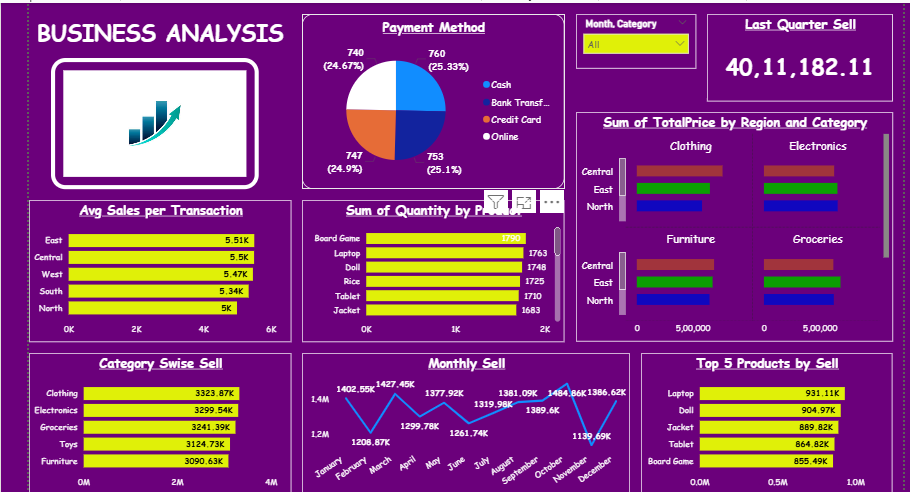

The dashboard page shown, as its layout file describes it:
{"tool":"powerbi","page":{"name":"Page 1","canvas":[1280,720],"ordinal":0},"visuals":[{"type":"barChart","title":"Category Swise Sell","fields":{"Category":["Business_Analysis_Dataset_Updated.Category"],"Y":["Sum(Business_Analysis_Dataset_Updated.TotalPrice)"]},"box":[0,512,384,208],"z":0},{"type":"lineChart","title":"Monthly Sell","fields":{"Y":["Sum(Business_Analysis_Dataset_Updated.TotalPrice)"],"Category":["Business_Analysis_Dataset_Updated.Date.Variation.Date Hierarchy.Month"]},"box":[400,512,480,208],"z":1000},{"type":"barChart","title":"Top 5 Products by Sell","fields":{"Y":["Sum(Business_Analysis_Dataset_Updated.TotalPrice)"],"Category":["Business_Analysis_Dataset_Updated.Product"]},"box":[896,512,368,208],"z":2000},{"type":"barChart","title":"Avg Sales per Transaction","fields":{"Category":["Business_Analysis_Dataset_Updated.Region"],"Y":["Business_Analysis_Dataset_Updated.Avg Sales per Transaction"]},"box":[0,288,384,208],"z":3000},{"type":"pieChart","title":"Payment Method","fields":{"Y":["CountNonNull(Business_Analysis_Dataset_Updated.PaymentMethod)"],"Category":["Business_Analysis_Dataset_Updated.PaymentMethod"]},"box":[400,16,384,256],"z":4000},{"type":"card","title":"Last Quarter Sell","fields":{"Values":["Sum(Business_Analysis_Dataset_Updated.TotalPrice)"]},"box":[992,16,272,128],"z":5000},{"type":"barChart","fields":{"Category":["Business_Analysis_Dataset_Updated.Region"],"Y":["Sum(Business_Analysis_Dataset_Updated.TotalPrice)"],"Rows":["Business_Analysis_Dataset_Updated.Category"]},"box":[800,160,464,336],"z":6000},{"type":"barChart","fields":{"Category":["Business_Analysis_Dataset_Updated.Product"],"Y":["Sum(Business_Analysis_Dataset_Updated.Quantity)"]},"box":[400,288,384,208],"z":7000},{"type":"slicer","fields":{"Values":["Business_Analysis_Dataset_Updated.Date.Variation.Date Hierarchy.Month","Business_Analysis_Dataset_Updated.Category"]},"box":[800,16,176,80],"z":8000},{"type":"textbox","box":[0,16,384,64],"z":8001},{"type":"image","box":[32,80,304,192],"z":8002}]}

Visuals, with their boxes on the page's 1280x720 design canvas (x1, y1, x2, y2). These are canvas units, not pixel positions in the 910x492 screenshot, which may show the page scaled, cropped or inside an application window:
"Category Swise Sell" barChart: <region>0, 512, 384, 720</region>
"Monthly Sell" lineChart: <region>400, 512, 880, 720</region>
"Top 5 Products by Sell" barChart: <region>896, 512, 1264, 720</region>
"Avg Sales per Transaction" barChart: <region>0, 288, 384, 496</region>
"Payment Method" pieChart: <region>400, 16, 784, 272</region>
"Last Quarter Sell" card: <region>992, 16, 1264, 144</region>
barChart - Business_Analysis_Dataset_Updated.Region x Sum(Business_Analysis_Dataset_Updated.TotalPrice): <region>800, 160, 1264, 496</region>
barChart - Business_Analysis_Dataset_Updated.Product x Sum(Business_Analysis_Dataset_Updated.Quantity): <region>400, 288, 784, 496</region>
slicer - Business_Analysis_Dataset_Updated.Date.Variation.Date Hierarchy.Month x Business_Analysis_Dataset_Updated.Category: <region>800, 16, 976, 96</region>
textbox: <region>0, 16, 384, 80</region>
image: <region>32, 80, 336, 272</region>
